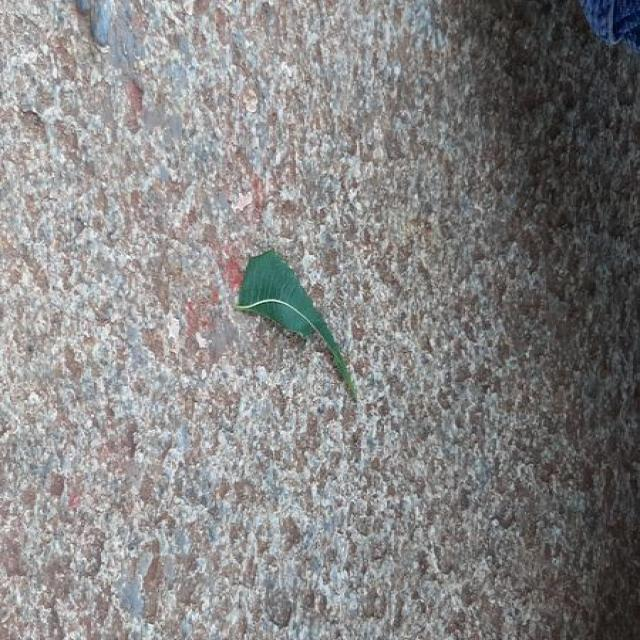neem: (237, 250, 357, 399)
